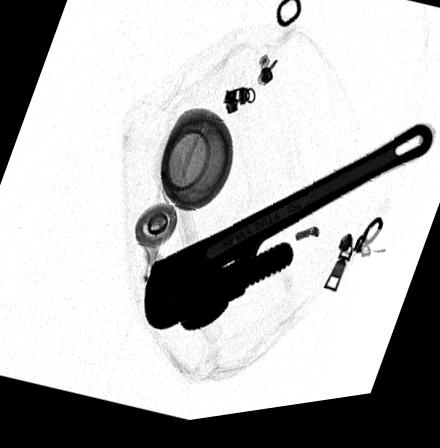Wrench: (138, 131, 433, 338)
